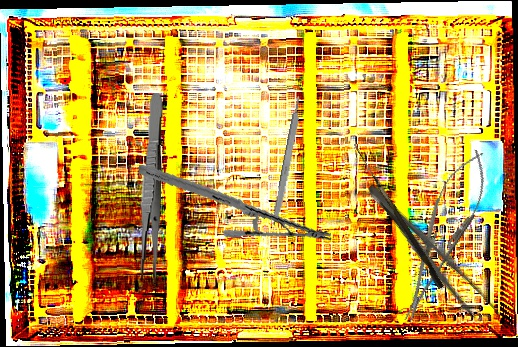Dressing Forceps: (357, 177, 505, 331), (137, 92, 165, 284)
Hook Surgical: (347, 143, 447, 290)
Needle Holder: (137, 137, 333, 269), (387, 143, 499, 329)
Scalpel Handle: (270, 94, 306, 227)
